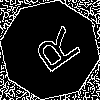R: (25, 25, 83, 80)
